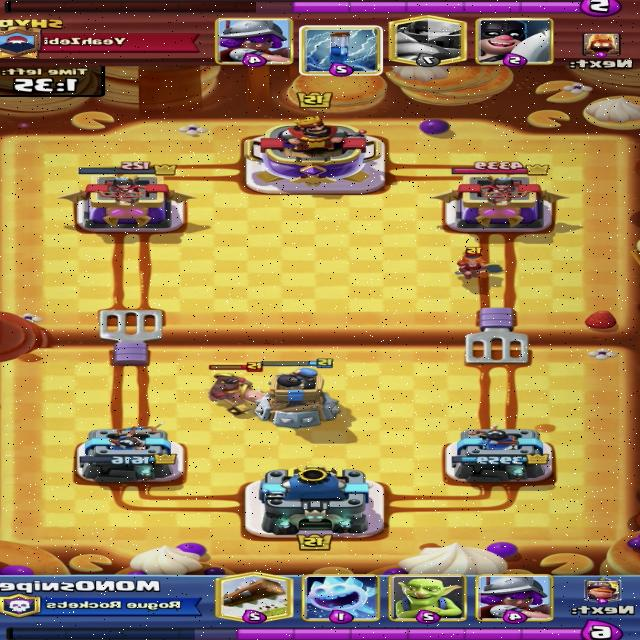Enemy-Hog: (207, 362, 274, 417)
Enemy-Valkyrie: (453, 246, 504, 281)
Player-BombTower: (252, 358, 341, 429)
